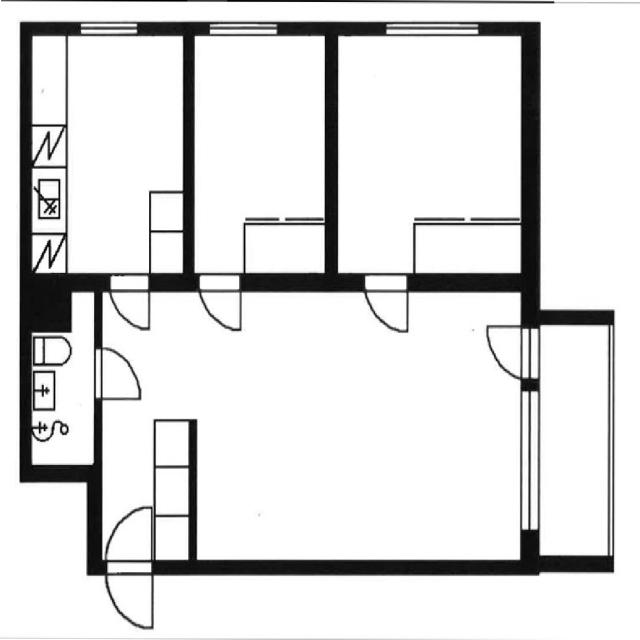door: (100, 494, 156, 628), (358, 270, 417, 339), (102, 269, 159, 338), (483, 320, 543, 383), (195, 270, 247, 336), (92, 340, 145, 404)
window: (25, 287, 101, 474), (513, 384, 545, 540), (381, 14, 484, 46), (202, 14, 283, 46), (72, 13, 144, 44)
zone: (98, 279, 530, 567), (333, 28, 530, 260), (26, 27, 190, 279), (190, 24, 331, 252), (531, 316, 614, 563), (25, 287, 101, 481)
